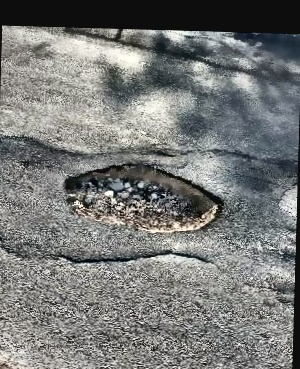pothole: (61, 157, 228, 234)
